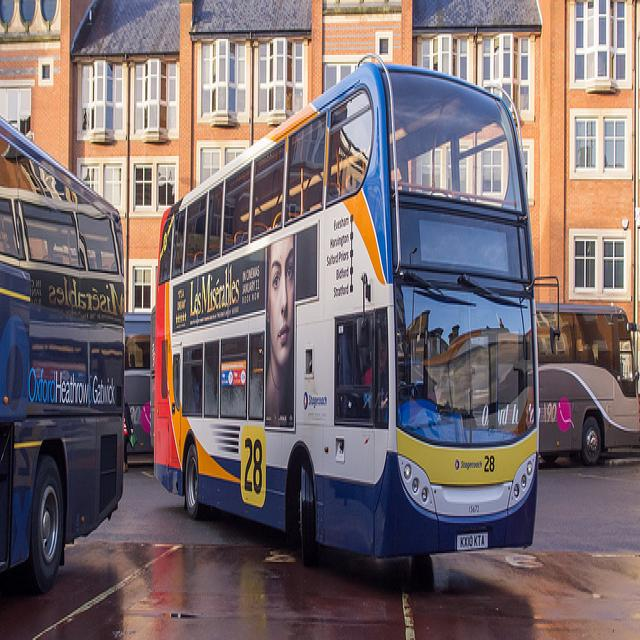Vehicle: (144, 60, 541, 567), (0, 106, 130, 596), (536, 293, 640, 460), (128, 309, 152, 452)
